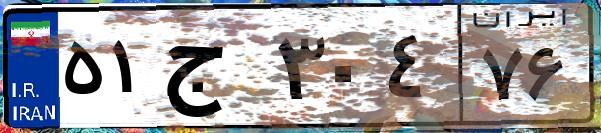0: (330, 28, 385, 110)
1: (110, 28, 158, 98)
3: (270, 28, 330, 110)
4: (385, 28, 445, 110)
5: (57, 26, 110, 100)
6: (525, 38, 570, 115)
7: (475, 38, 525, 113)
ج: (158, 20, 270, 120)
